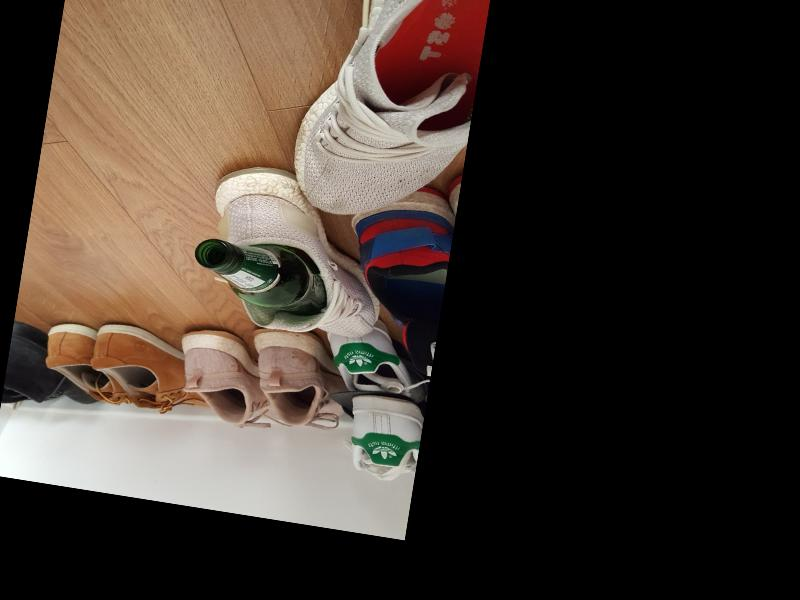Beer: (187, 234, 332, 319)
